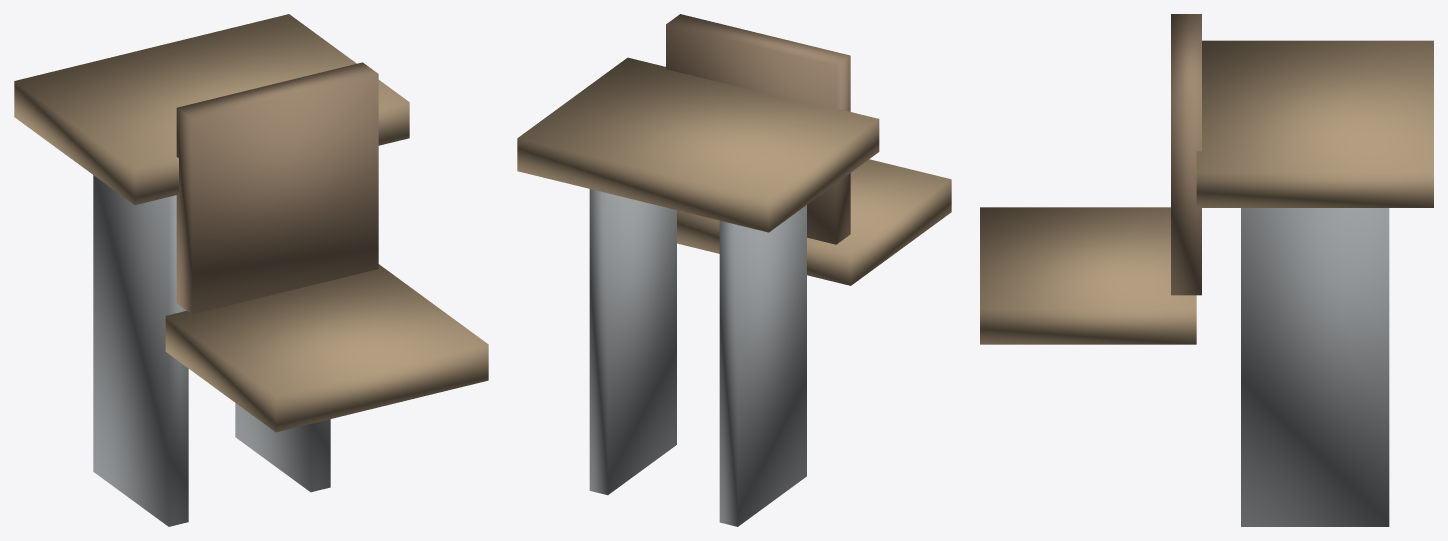
The model's file is classroom_desk__compact.glb.
The picture shows the model from 3 angles, left to right: view 1: azimuth 30°, elevation 25°; view 2: azimuth 150°, elevation 25°; view 3: azimuth 270°, elevation 25°; orthographic projection. The views are drawn at different scales.
Visible parts, largest first — view 1: world; view 2: world; view 3: world.
Boxes of the visible parts, x1,y1,x2,y2 form: world: (14,14,488,526); world: (517,14,951,526); world: (980,14,1433,526).
Size of the model in its own units: 0.5208 by 0.7905 by 0.7568.
